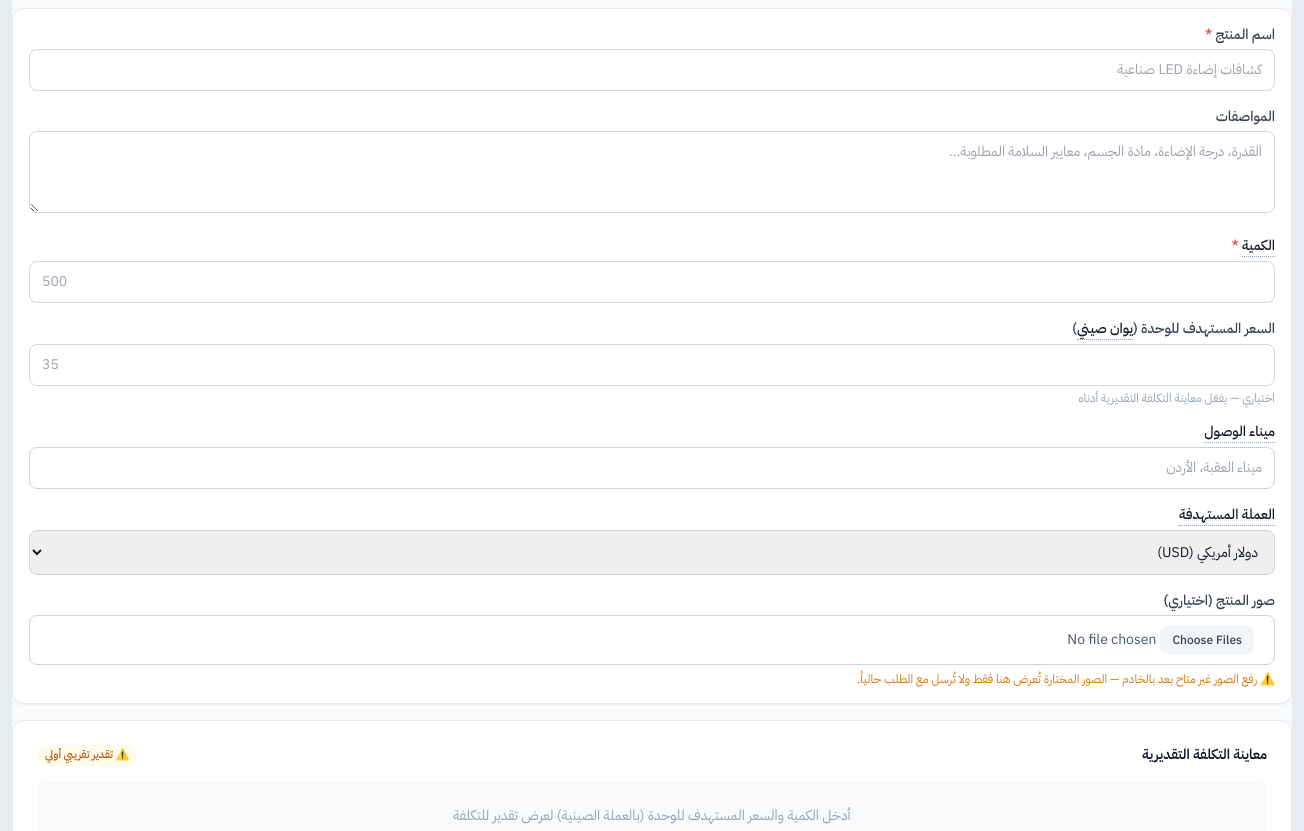
RFQCreatePageMobile › shows the local estimate once quantity and unit price are entered
The width and height of the screenshot is (1304, 831).
Type "50" into the number field with placeholder "500".
click(652, 282); type("50")  # box [29,261,1275,303]
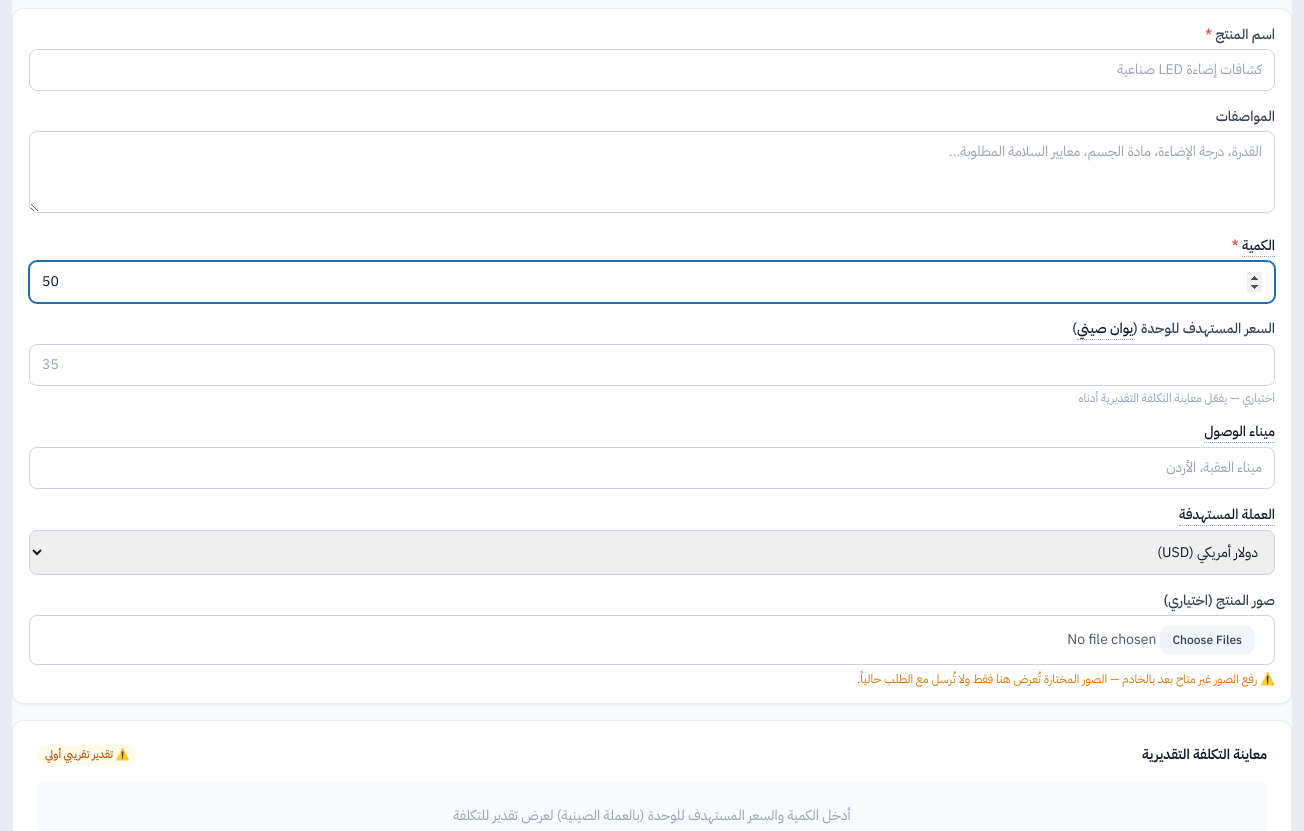
Type "15" into the number field with placeholder "35".
click(652, 365); type("15")  # box [29,344,1275,386]
(page scrolled)
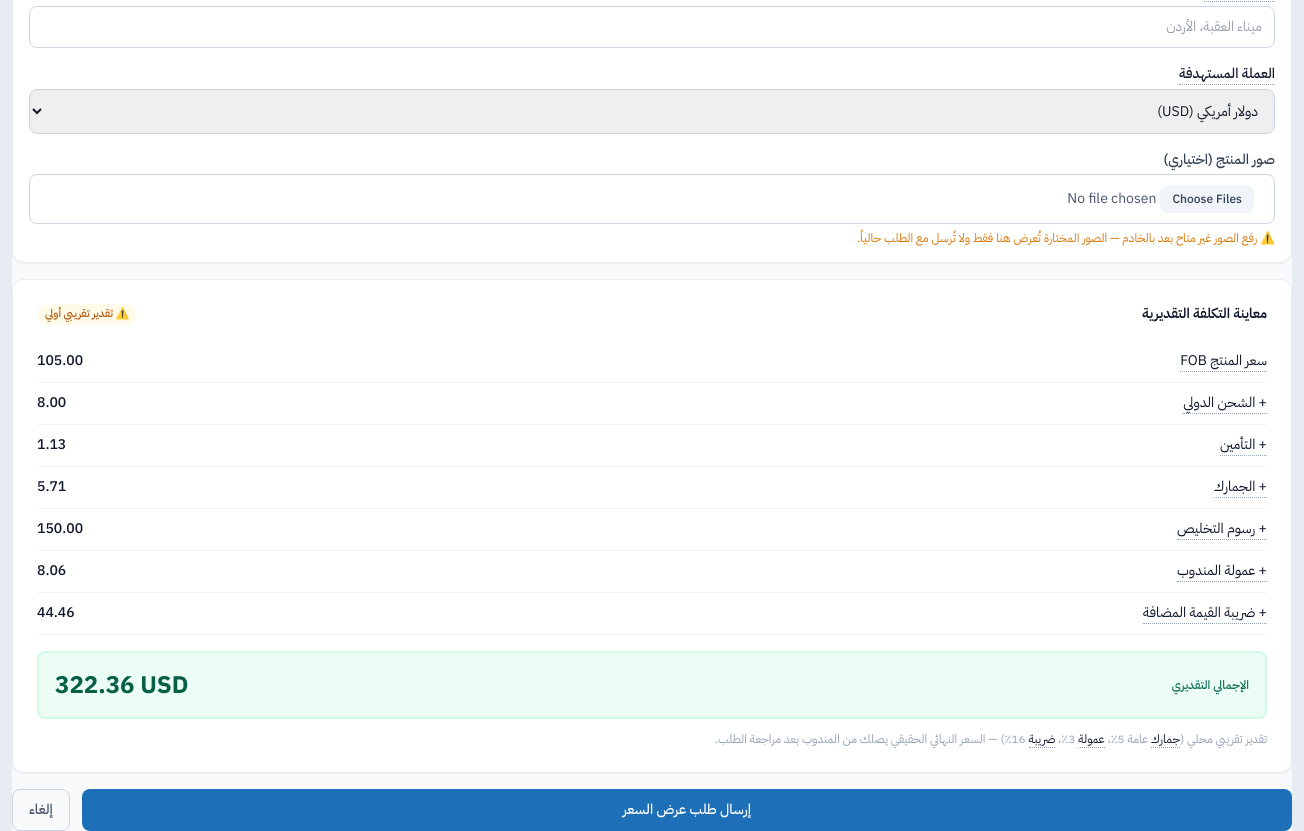
Check: the text "الإجمالي التقديري" is shown, box [1172,676,1249,692]
